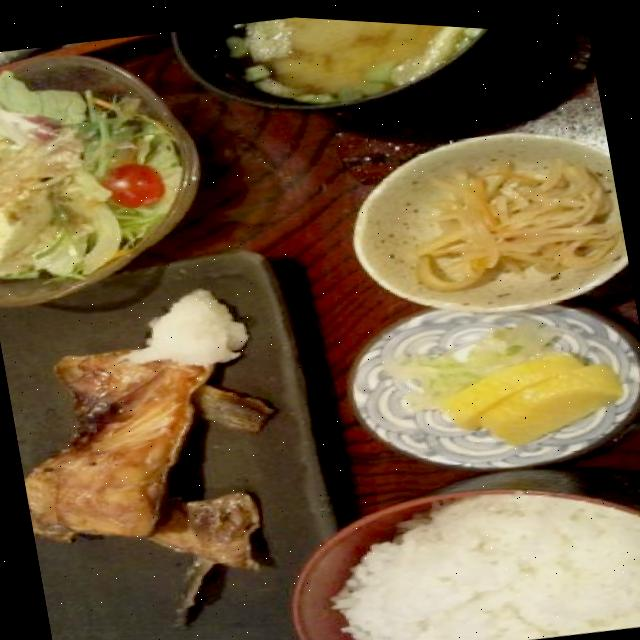汤锅炖物: (207, 10, 536, 142)
米饭主食: (314, 459, 640, 640)
蔬菜料理: (0, 38, 211, 312)
